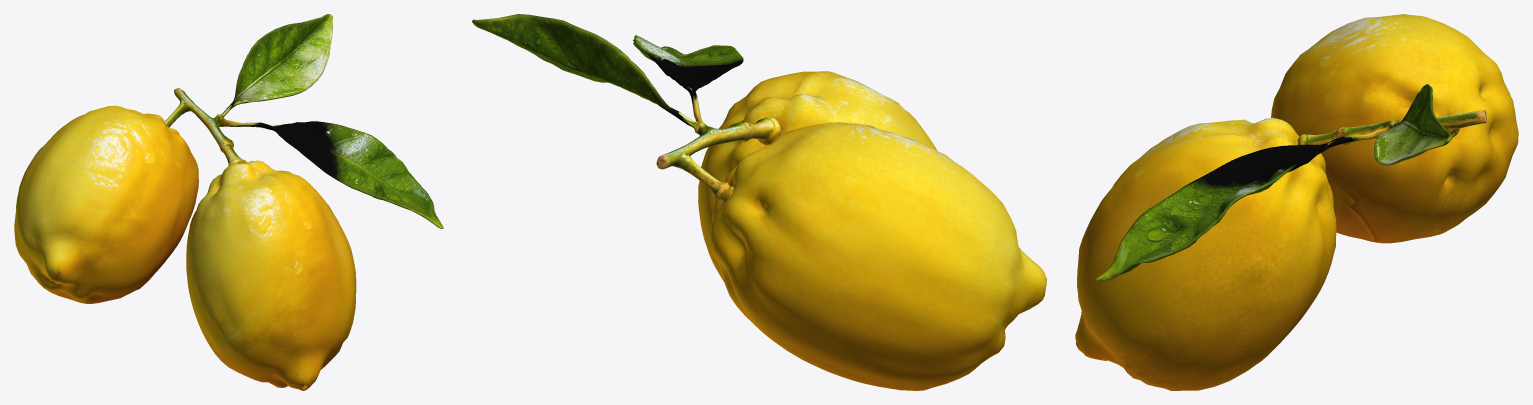
File: lemon-falling.glb
3 views of the same model, side by side, from view 1: azimuth 30°, elevation 25°; view 2: azimuth 150°, elevation 25°; view 3: azimuth 270°, elevation 25° (orthographic). The views are drawn at different scales.
Parts seen in each view (by area): view 1: Lemons, Leaf 1, Leaf 2; view 2: Lemons, Leaf 2, Leaf 1; view 3: Lemons, Leaf 1, Leaf 2.
Boxes of the visible parts, box(x1,y1,x2,y2) form: Lemons: box(14, 78, 441, 390); Leaf 1: box(238, 121, 443, 228); Leaf 2: box(226, 14, 332, 109); Lemons: box(648, 44, 1046, 390); Leaf 2: box(472, 14, 690, 126); Leaf 1: box(633, 35, 743, 105); Lemons: box(1075, 14, 1518, 390); Leaf 1: box(1095, 136, 1358, 281); Leaf 2: box(1374, 84, 1452, 165).
Bounding box in the file's own units: 1.59 × 1.18 × 1.34.
1 material, 1 textured.
